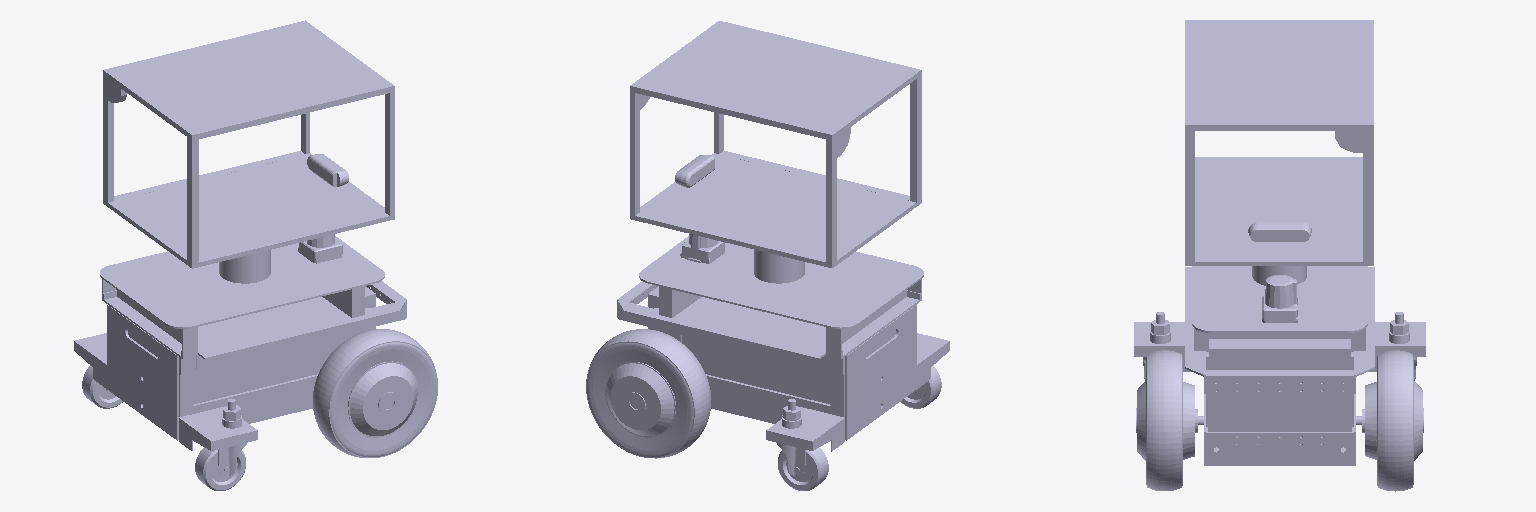
The robot description file, URDF, robot "krytn":
<?xml version="1.0" ?>
<robot name="krytn">
  <!--Generated by CROSS, a ROS Workbench for FreeCAD (https://github.com/galou/freecad.cross)-->
  <link name="base_footprint">
    <visual>
      <!--visual_base_footprint-->
      <origin rpy="0.0 -0.0 0.0" xyz="0.0 0.0 0.0"/>
      <geometry>
        <mesh filename="package://krytn_tray/meshes/Unnamed_visual_base_footprint_.dae"/>
      </geometry>
    </visual>
    <collision>
      <!--collision_base_footprint-->
      <origin rpy="0.0 -0.0 0.0" xyz="0.0 0.0 0.0"/>
      <geometry>
        <mesh filename="package://krytn_tray/meshes/Unnamed_collision_base_footprint_.dae"/>
      </geometry>
    </collision>
    <inertial>
      <mass value="0.0"/>
      <origin rpy="0.0 -0.0 0.0" xyz="0.0 0.0 0.0"/>
      <inertia ixx="0.0" ixy="0.0" ixz="0.0" iyy="0.0" iyz="0.0" izz="0.0"/>
    </inertial>
  </link>
  <link name="base_link">
    <visual>
      <!--visual_base_link/base_link_visual.-->
      <origin rpy="0.0 -0.0 0.0" xyz="-0.11 0.0 -0.029"/>
      <geometry>
        <mesh filename="package://krytn_tray/meshes/Unnamed_magni_body.dae.dae"/>
      </geometry>
    </visual>
    <collision>
      <!--collision_base_link/base_link_collision.-->
      <origin rpy="0.0 -0.0 0.0" xyz="-0.11 0.0 0.051"/>
      <geometry>
        <box size="0.398 0.268 0.16"/>
      </geometry>
    </collision>
    <collision>
      <!--collision_base_link/base_link_collision001.-->
      <origin rpy="0.0 -0.0 0.0" xyz="-0.136 0.0 0.148"/>
      <geometry>
        <box size="0.375 0.268 0.034"/>
      </geometry>
    </collision>
    <collision>
      <!--collision_base_link/base_link_collision002.-->
      <origin rpy="0.0 -0.0 0.0" xyz="-0.279 0.169 0.006"/>
      <geometry>
        <box size="0.1 0.07 0.07"/>
      </geometry>
    </collision>
    <collision>
      <!--collision_base_link/base_link_collision003.-->
      <origin rpy="0.0 -0.0 0.0" xyz="-0.279 -0.169 0.006"/>
      <geometry>
        <box size="0.1 0.07 0.07"/>
      </geometry>
    </collision>
    <inertial>
      <mass value="10.0"/>
      <origin rpy="0.0 -0.0 0.0" xyz="-0.15 0.0 0.03"/>
      <inertia ixx="0.059450809553" ixy="0.0" ixz="0.0" iyy="0.150753273032" iyz="0.0" izz="0.17270409758500002"/>
    </inertial>
  </link>
  <link name="left_wheel">
    <visual>
      <!--visual_left_wheel/left_wheel_visual.-->
      <origin rpy="0.0 -1.5707963267948966 0.0" xyz="-1.57652e-17 0.0 -0.071"/>
      <geometry>
        <mesh filename="package://krytn_tray/meshes/Unnamed_front_wheel.dae.dae"/>
      </geometry>
    </visual>
    <collision>
      <!--collision_left_wheel/left_wheel_collision.-->
      <origin rpy="0.0 -0.0 0.0" xyz="7.32747e-18 0.0 0.033"/>
      <geometry>
        <cylinder length="0.01" radius="0.1"/>
      </geometry>
    </collision>
    <inertial>
      <mass value="1.34"/>
      <origin rpy="-0.0 1.5707963267948966 0.0" xyz="0.0 0.0 0.0"/>
      <inertia ixx="0.003629165215000001" ixy="0.0" ixz="0.0" iyy="0.003629165215000001" iyz="0.0" izz="0.006700000000000001"/>
    </inertial>
  </link>
  <link name="right_wheel">
    <visual>
      <!--visual_right_wheel/right_wheel_visual.-->
      <origin rpy="-0.0 1.5707963267948961 0.0" xyz="1.57652e-17 0.0 0.071"/>
      <geometry>
        <mesh filename="package://krytn_tray/meshes/Unnamed_front_wheel.dae.dae"/>
      </geometry>
    </visual>
    <collision>
      <!--collision_right_wheel/right_wheel_collision.-->
      <origin rpy="0.0 -0.0 0.0" xyz="-7.32747e-18 0.0 -0.033"/>
      <geometry>
        <cylinder length="0.01" radius="0.1"/>
      </geometry>
    </collision>
    <inertial>
      <mass value="1.34"/>
      <origin rpy="-0.0 1.5707963267948966 0.0" xyz="0.0 0.0 0.0"/>
      <inertia ixx="0.003629165215000001" ixy="0.0" ixz="0.0" iyy="0.003629165215000001" iyz="0.0" izz="0.006700000000000001"/>
    </inertial>
  </link>
  <link name="left_caster_wheel">
    <visual>
      <!--visual_left_caster_wheel/left_caster_wheel_visual.-->
      <origin rpy="0.0 -0.0 3.141592653589793" xyz="-0.25 0.169 0.0"/>
      <geometry>
        <mesh filename="package://krytn_tray/meshes/Unnamed_caster_wheel.dae.dae"/>
      </geometry>
    </visual>
    <collision>
      <!--collision_left_caster_wheel/left_caster_wheel_collision.-->
      <geometry>
        <sphere radius="0.04"/>
      </geometry>
    </collision>
    <inertial>
      <mass value="0.0"/>
      <origin rpy="0.0 -0.0 0.0" xyz="0.0 0.0 0.0"/>
      <inertia ixx="0.0" ixy="0.0" ixz="0.0" iyy="0.0" iyz="0.0" izz="0.0"/>
    </inertial>
  </link>
  <link name="right_caster_wheel">
    <visual>
      <!--visual_right_caster_wheel/right_caster_wheel_visual.-->
      <origin rpy="0.0 -0.0 3.141592653589793" xyz="-0.25 -0.169 0.0"/>
      <geometry>
        <mesh filename="package://krytn_tray/meshes/Unnamed_caster_wheel.dae.dae"/>
      </geometry>
    </visual>
    <collision>
      <!--collision_right_caster_wheel/right_caster_wheel_collision.-->
      <geometry>
        <sphere radius="0.04"/>
      </geometry>
    </collision>
    <inertial>
      <mass value="0.0"/>
      <origin rpy="0.0 -0.0 0.0" xyz="0.0 0.0 0.0"/>
      <inertia ixx="0.0" ixy="0.0" ixz="0.0" iyy="0.0" iyz="0.0" izz="0.0"/>
    </inertial>
  </link>
  <link name="realsense_link">
    <visual>
      <!--visual_realsense_link/realsense_link_visual.-->
      <origin rpy="0.0 -0.0 1.5707963267948966" xyz="0.0 0.0 0.0"/>
      <geometry>
        <mesh filename="package://krytn_tray/meshes/Unnamed_realsense.dae.dae"/>
      </geometry>
    </visual>
    <collision>
      <!--collision_realsense_link/realsense_link_collision.-->
      <origin rpy="0.0 -0.0 1.5707963267948966" xyz="0.0 0.0 0.0"/>
      <geometry>
        <mesh filename="package://krytn_tray/meshes/Unnamed_realsense.dae.dae"/>
      </geometry>
    </collision>
    <inertial>
      <mass value="0.06"/>
      <origin rpy="0.0 -0.0 0.0" xyz="-0.15 0.0 0.03"/>
      <inertia ixx="5.04999798e-05" ixy="0.0" ixz="0.0" iyy="2.499999e-06" iyz="0.0" izz="5.19999792e-05"/>
    </inertial>
  </link>
  <link name="lidar_2d_link">
    <visual>
      <!--visual_lidar_2d_link/lidar_2d_link_visual.-->
      <origin rpy="0.0 -0.0 0.0" xyz="0.0 0.0 0.0"/>
      <geometry>
        <mesh filename="package://krytn_tray/meshes/Unnamed_lidar_2d_v1.dae.dae"/>
      </geometry>
    </visual>
    <collision>
      <!--collision_lidar_2d_link/lidar_2d_link_collision.-->
      <origin rpy="0.0 -0.0 0.0" xyz="0.0 0.0 0.0"/>
      <geometry>
        <box size="0.05001062 0.05001062 0.035003035"/>
      </geometry>
    </collision>
    <collision>
      <!--collision_lidar_2d_link/lidar_2d_link_collision001.-->
      <origin rpy="0.0 -0.0 0.0" xyz="0.0 0.0 0.0"/>
      <geometry>
        <cylinder length="0.035003035" radius="0.02"/>
      </geometry>
    </collision>
    <inertial>
      <mass value="0.13"/>
      <origin rpy="0.0 -0.0 0.0" xyz="-0.15 0.0 0.03"/>
      <inertia ixx="0.0027180822461000003" ixy="0.0" ixz="0.0" iyy="3.6833318600000004e-05" iyz="0.0" izz="0.0027354155725000003"/>
    </inertial>
  </link>
  
  <link name="krytn_tray">
    <visual>
      <!--krytn_tray_part/Body.-->
      <origin rpy="0.0 -0.0 0.0" xyz="0.0 0.0 0.0"/>
      <geometry>
        <mesh filename="package://krytn_tray/meshes/Unnamed_krytn_tray_body.dae"/>
      </geometry>
    </visual>
    <collision>
      <!--krytn_tray_part/Body.-->
      <origin rpy="0.0 -0.0 0.0" xyz="0.0 0.0 0.0"/>
      <geometry>
        <mesh filename="package://krytn_tray/meshes/Unnamed_krytn_tray_body.dae"/>
      </geometry>
    </collision>
    <inertial>
      <mass value="1e-09"/>
      <origin rpy="0.0 -0.0 0.0" xyz="0.0 0.0 0.0"/>
      <inertia ixx="0.1" ixy="0.0" ixz="0.0" iyy="0.1" iyz="0.0" izz="0.1"/>
    </inertial>
  </link>

  <joint name="base_footprint_joint" type="fixed">
    <parent link="base_footprint"/>
    <child link="base_link"/>
    <origin rpy="0.0 -0.0 0.0" xyz="0.0 0.0 0.1"/>
  </joint>
  <joint name="left_wheel_joint" type="continuous">
    <parent link="base_link"/>
    <child link="left_wheel"/>
    <origin rpy="-1.5707963267948966 1.5707963267948963 0.0" xyz="0.0 0.163 0.0"/>
    <axis xyz="0 0 1"/>
  </joint>
  <joint name="right_wheel_joint" type="continuous">
    <parent link="base_link"/>
    <child link="right_wheel"/>
    <origin rpy="-1.5707963267948966 1.5707963267948963 0.0" xyz="0.0 -0.163 0.0"/>
    <axis xyz="0 0 1"/>
  </joint>
  <joint name="left_caster_wheel_joint" type="fixed">
    <parent link="base_link"/>
    <child link="left_caster_wheel"/>
    <origin rpy="0.0 -0.0 0.0" xyz="0.0 0.0 0.0"/>
  </joint>
  <joint name="right_caster_wheel_joint" type="fixed">
    <parent link="base_link"/>
    <child link="right_caster_wheel"/>
    <origin rpy="0.0 -0.0 0.0" xyz="0.0 0.0 0.0"/>
  </joint>
  <joint name="realsense_joint" type="fixed">
    <parent link="base_link"/>
    <child link="realsense_link"/>
    <origin rpy="0.0 -0.0 0.0" xyz="0.0 0.0 0.3"/>
  </joint>
  <joint name="lidar_2d_joint" type="fixed">
    <parent link="base_link"/>
    <child link="lidar_2d_link"/>
    <origin rpy="0.0 -0.0 0.0" xyz="0.0 0.0 0.15"/>
  </joint>
  <joint name="tray_joint" type="fixed">
    <parent link="base_link"/>
    <child link="krytn_tray"/>
    <origin rpy="0.0 -0.0 1.5707963267948966" xyz="0.05 0.01 0.165"/>
  </joint>
</robot>

--- What the picture shows (computed from the rendered views, not written in the file) ---
The picture shows the robot from 3 angles, left to right: view 1: azimuth 30°, elevation 25°; view 2: azimuth 150°, elevation 25°; view 3: azimuth 270°, elevation 25°; orthographic projection.
Robot: krytn — 9 links, 8 joints (2 continuous, 6 fixed); root link base_footprint; default pose: all joints at 0.
Visible links, largest first — view 1: krytn_tray, base_link, right_wheel, right_caster_wheel, lidar_2d_link, realsense_link, left_caster_wheel; view 2: krytn_tray, base_link, left_wheel, left_caster_wheel, lidar_2d_link, realsense_link, right_caster_wheel; view 3: krytn_tray, base_link, left_wheel, right_wheel, lidar_2d_link, realsense_link, right_caster_wheel, left_caster_wheel.
Boxes of the visible links, bbox=[...] form: krytn_tray: bbox=[103, 20, 394, 283]; base_link: bbox=[74, 236, 406, 450]; right_wheel: bbox=[313, 329, 437, 457]; right_caster_wheel: bbox=[195, 399, 247, 490]; lidar_2d_link: bbox=[298, 234, 342, 263]; realsense_link: bbox=[307, 154, 348, 187]; left_caster_wheel: bbox=[82, 365, 123, 408]; krytn_tray: bbox=[630, 21, 921, 283]; base_link: bbox=[617, 236, 949, 451]; left_wheel: bbox=[586, 329, 710, 458]; left_caster_wheel: bbox=[777, 399, 828, 490]; lidar_2d_link: bbox=[680, 234, 724, 263]; realsense_link: bbox=[675, 155, 714, 187]; right_caster_wheel: bbox=[900, 365, 941, 408]; krytn_tray: bbox=[1185, 20, 1373, 285]; base_link: bbox=[1134, 266, 1425, 465]; left_wheel: bbox=[1356, 350, 1423, 491]; right_wheel: bbox=[1136, 350, 1203, 490]; lidar_2d_link: bbox=[1262, 275, 1299, 322]; realsense_link: bbox=[1248, 222, 1311, 241]; right_caster_wheel: bbox=[1143, 312, 1170, 380]; left_caster_wheel: bbox=[1389, 312, 1416, 380].
Size in the robot's own frame: 0.423 by 0.412 by 0.5851 metres.
Meshes: 7 distinct files referenced, 8 mesh visuals loaded (6 Collada DAE); not drawn: 1 (file found but could not be loaded).
